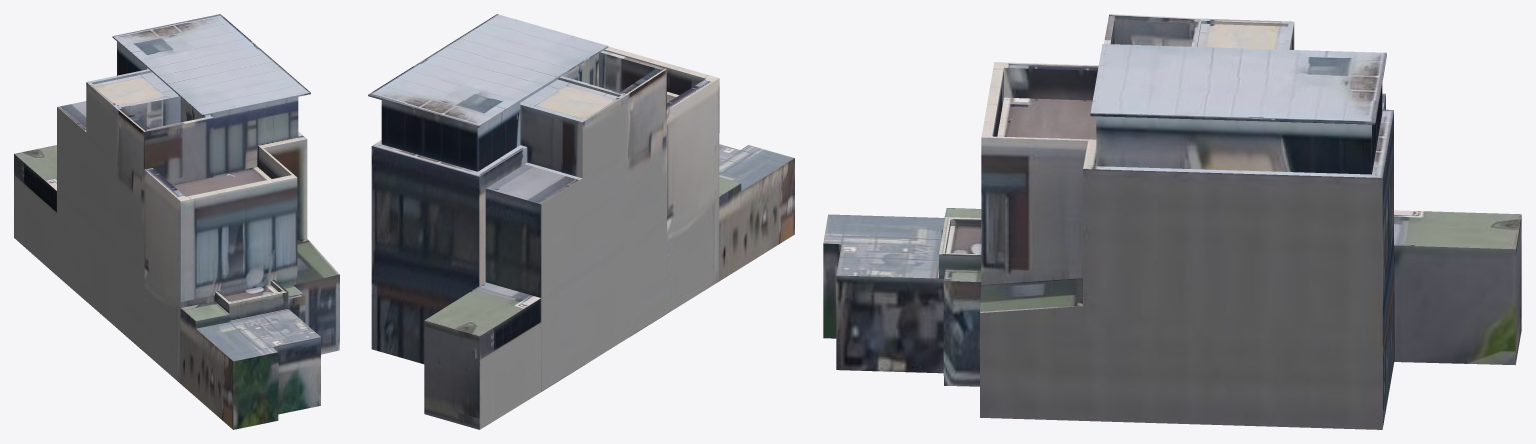
3 renders of one model, left to right at view 1: azimuth 30°, elevation 25°; view 2: azimuth 150°, elevation 25°; view 3: azimuth 270°, elevation 25°, orthographic. The views are drawn at different scales.
Parts seen in each view (by area): view 1: B283154038501062A0; view 2: B283154038501062A0; view 3: B283154038501062A0.
Boxes of the visible parts, x1,y1,x2,y2 form: B283154038501062A0: (14,14,339,429); B283154038501062A0: (368,14,794,429); B283154038501062A0: (823,14,1521,429).
Bounding box in the file's own units: 9.77 × 11.36 × 23.1.
2 materials, 2 textured.
